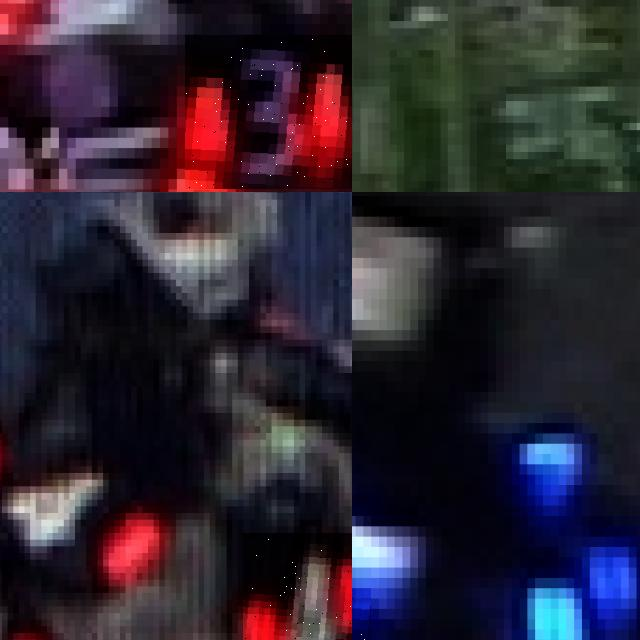R3: (185, 34, 352, 189)
R4: (0, 413, 142, 593), (243, 533, 352, 640)
